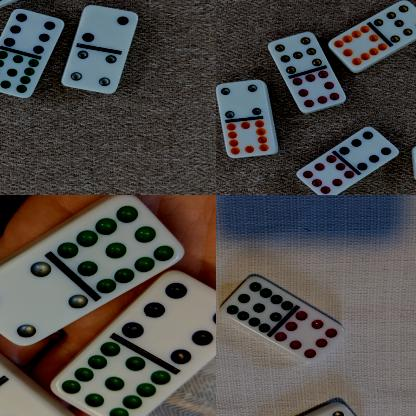pip-1: (0, 385, 64, 416)
pip-10: (329, 26, 388, 74), (224, 119, 279, 158)
pip-11: (58, 195, 173, 295), (53, 342, 171, 416), (220, 274, 292, 333), (0, 50, 41, 99)
pip-2: (80, 6, 138, 53)
pip-4: (0, 260, 88, 345), (63, 49, 122, 95), (217, 81, 268, 120), (302, 405, 370, 416)
pip-6: (122, 282, 216, 364), (4, 9, 65, 54), (340, 127, 400, 172)
pip-7: (269, 33, 324, 75), (374, 0, 416, 43)
pip-8: (276, 312, 345, 364), (296, 155, 355, 195), (292, 71, 346, 112)
